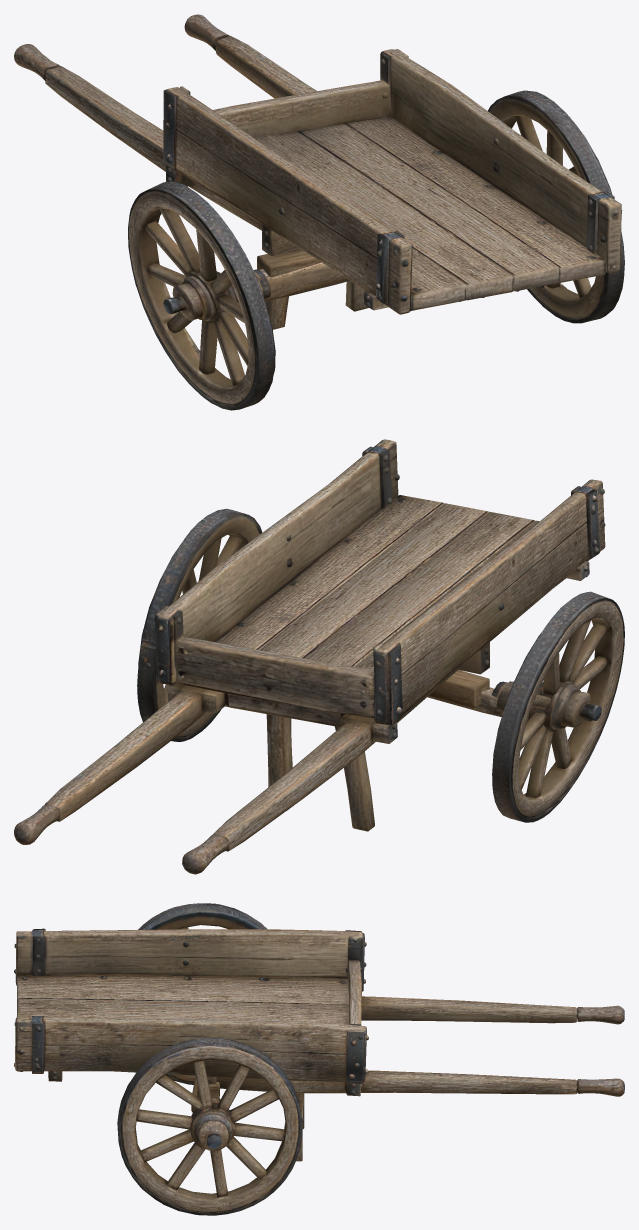
Rendered from handcart.glb.
3 views of the same model, one above another, from view 1: azimuth 30°, elevation 25°; view 2: azimuth 150°, elevation 25°; view 3: azimuth 270°, elevation 25° (orthographic). The views are drawn at different scales.
Visible parts, largest first — view 1: handcart; view 2: handcart; view 3: handcart.
Boxes of the visible parts, <box> form: handcart: <box>14,14,624,410</box>; handcart: <box>14,439,624,874</box>; handcart: <box>14,903,624,1215</box>.
Bounding box in the file's own units: 1.52 × 0.7605 × 2.4.
1 material, 1 textured.
